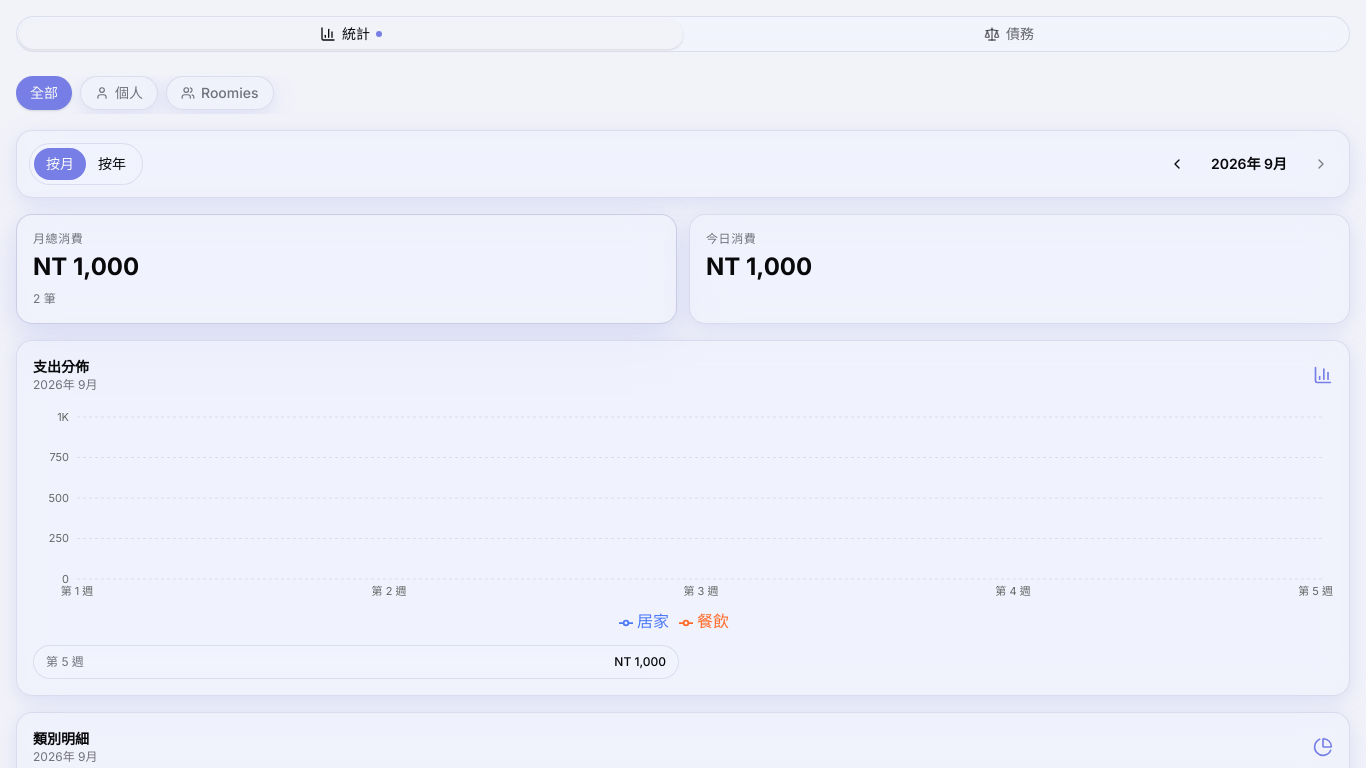
OverviewPage › group debt panel shows month summary, simplified debts and net balances
Press the mouse on the tab "債務" at x=1015, y=34, box [683,20,1347,48]
(page scrolled)
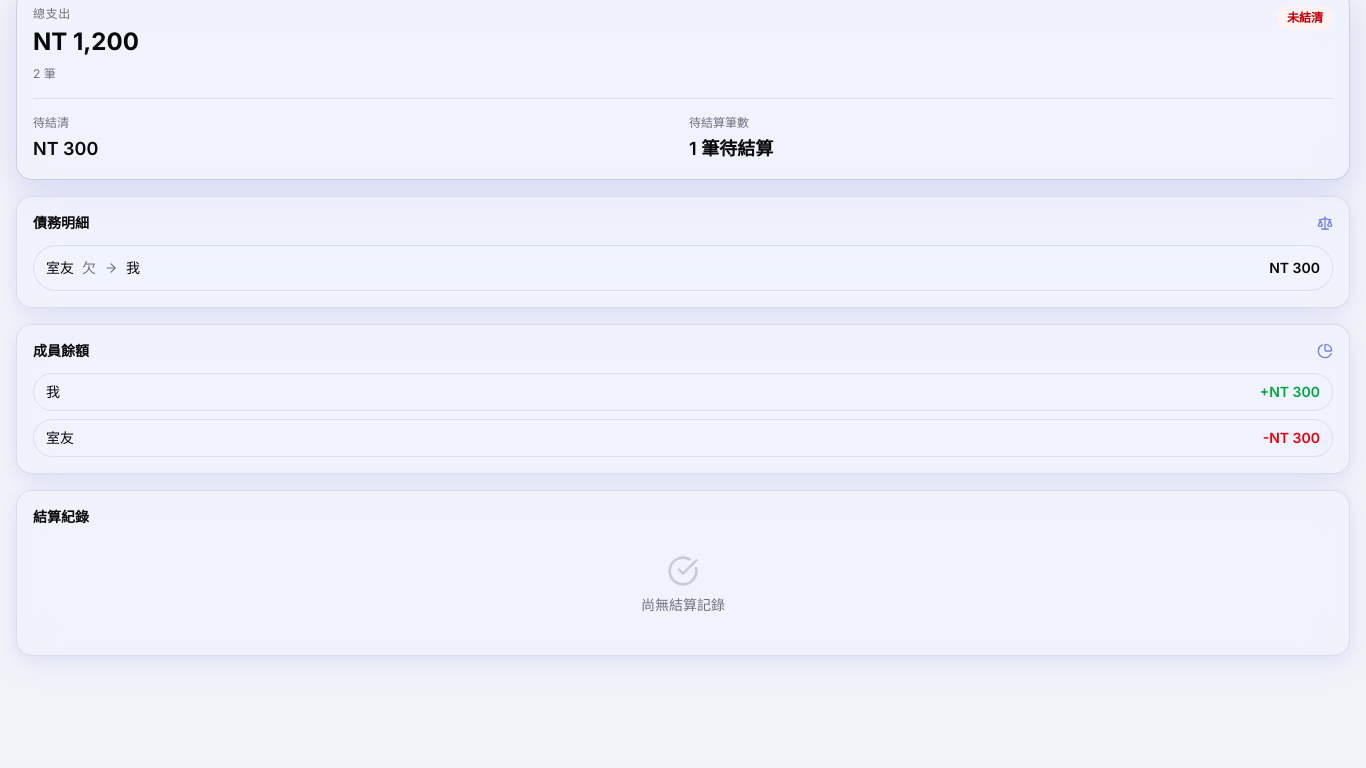
Now the text "未結清" is shown, box [1277,6,1333,30]
Now the text "室友" below "債務明細" is shown, box [46,259,74,276]
Now the text "我" below "債務明細" is shown, box [126,259,140,276]
